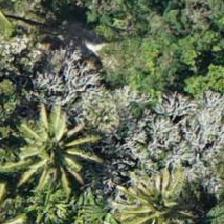coconut_tree: (2, 106, 92, 196), (115, 155, 205, 223)
